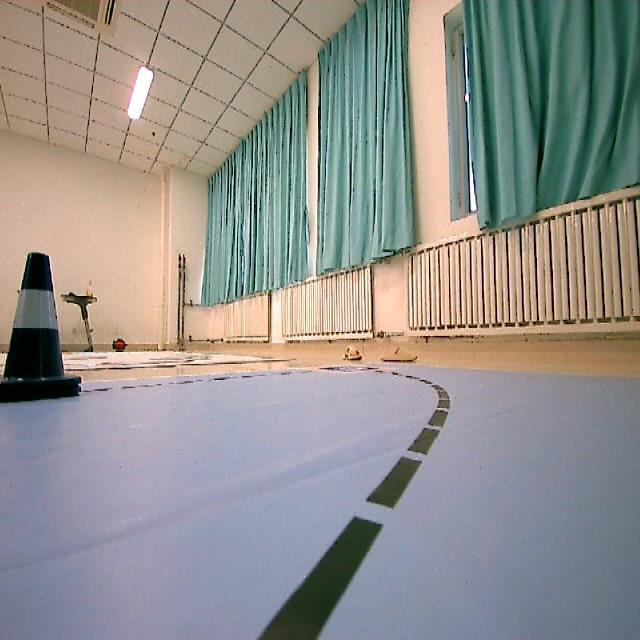obstacle: (0, 247, 83, 405)
